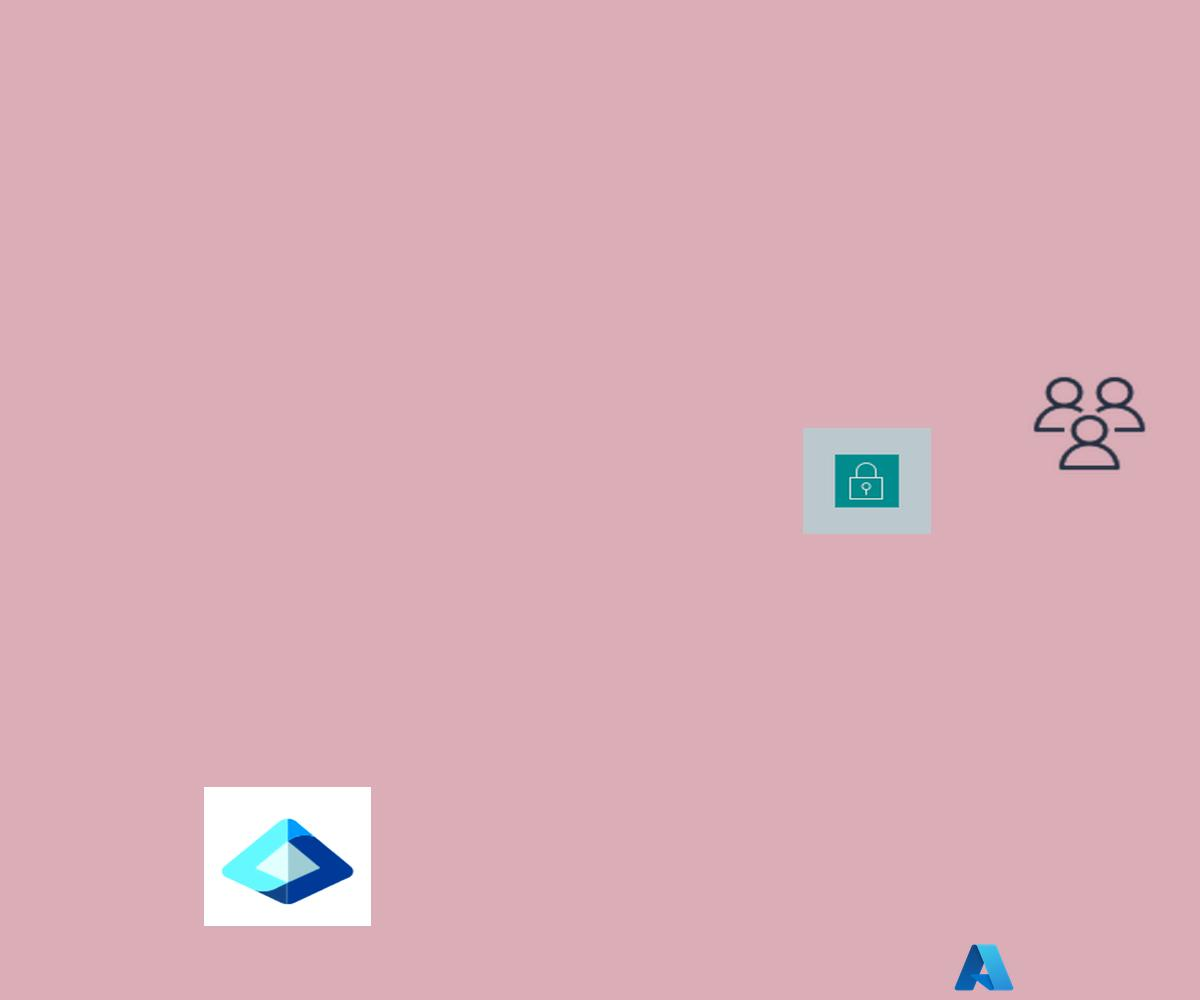AWS-Private-subnet: (803, 428, 931, 534)
AWS-Res_Users: (1029, 373, 1150, 474)
Azure_microsoft_entra: (204, 787, 371, 926)
Azure_services: (952, 941, 1016, 994)
